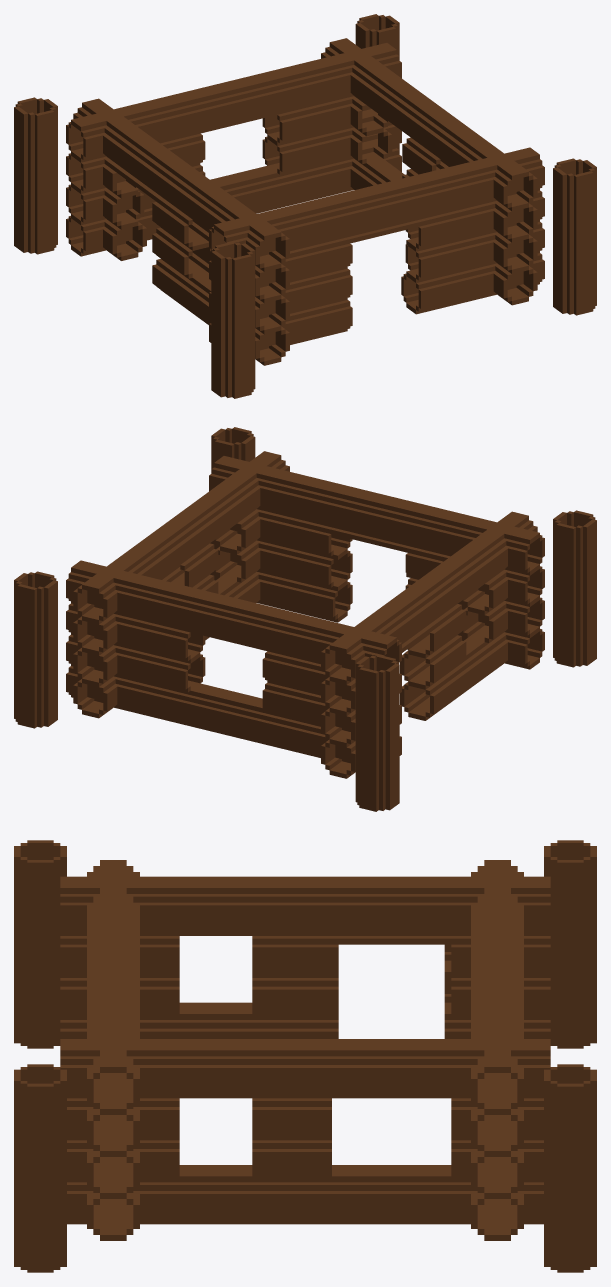
File: cabin-2.obj
3 renders of one model, top to bottom at view 1: azimuth 30°, elevation 25°; view 2: azimuth 150°, elevation 25°; view 3: azimuth 270°, elevation 25°, orthographic. The views are drawn at different scales.
Bounding box in the file's own units: 8.8 × 3.1 × 8.8.
1 material, 1 textured.
